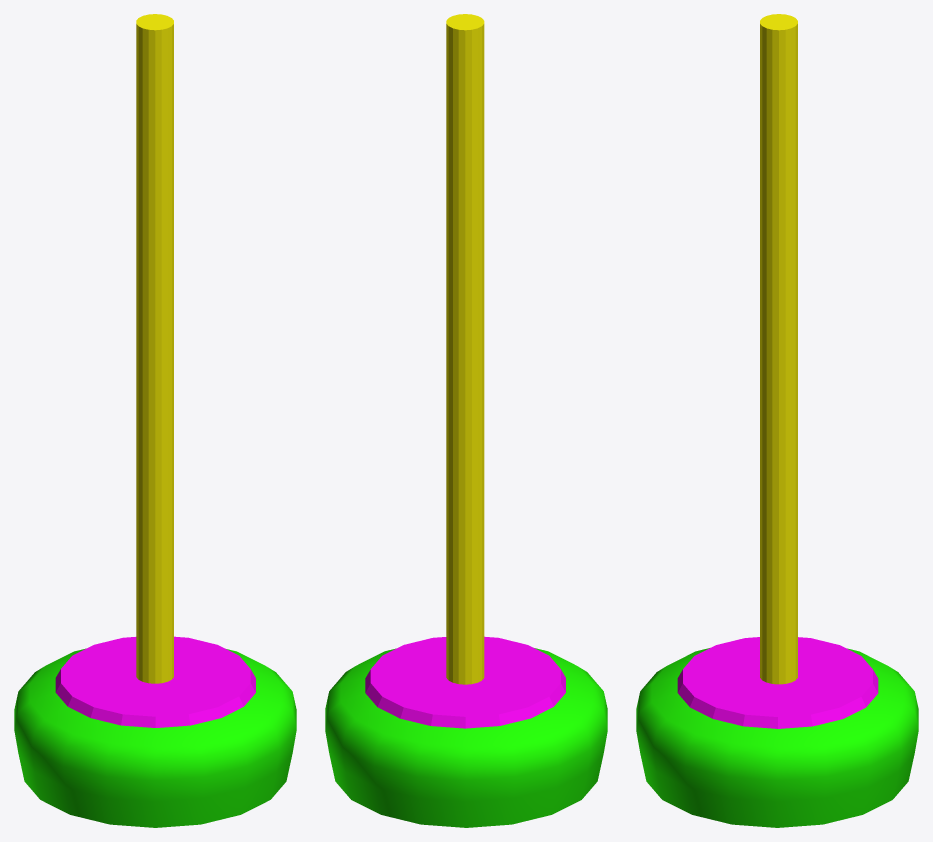
File: umgebung_wischmop_low(1).FBX
3 renders of one model, left to right at view 1: azimuth 30°, elevation 25°; view 2: azimuth 150°, elevation 25°; view 3: azimuth 270°, elevation 25°, orthographic.
Parts seen in each view (by area): view 1: o_mop_low, o_griff_low, o_verbindung_low; view 2: o_mop_low, o_griff_low, o_verbindung_low; view 3: o_mop_low, o_griff_low, o_verbindung_low.
Boxes of the visible parts, x1,y1,x2,y2 form: o_mop_low: [14, 648, 296, 827]; o_griff_low: [136, 14, 173, 683]; o_verbindung_low: [55, 636, 255, 727]; o_mop_low: [325, 648, 607, 827]; o_griff_low: [446, 14, 484, 684]; o_verbindung_low: [365, 636, 565, 728]; o_mop_low: [636, 648, 918, 827]; o_griff_low: [760, 14, 797, 684]; o_verbindung_low: [677, 637, 878, 728].
Size of the model in its own units: 59.61 by 58.71 by 172.
